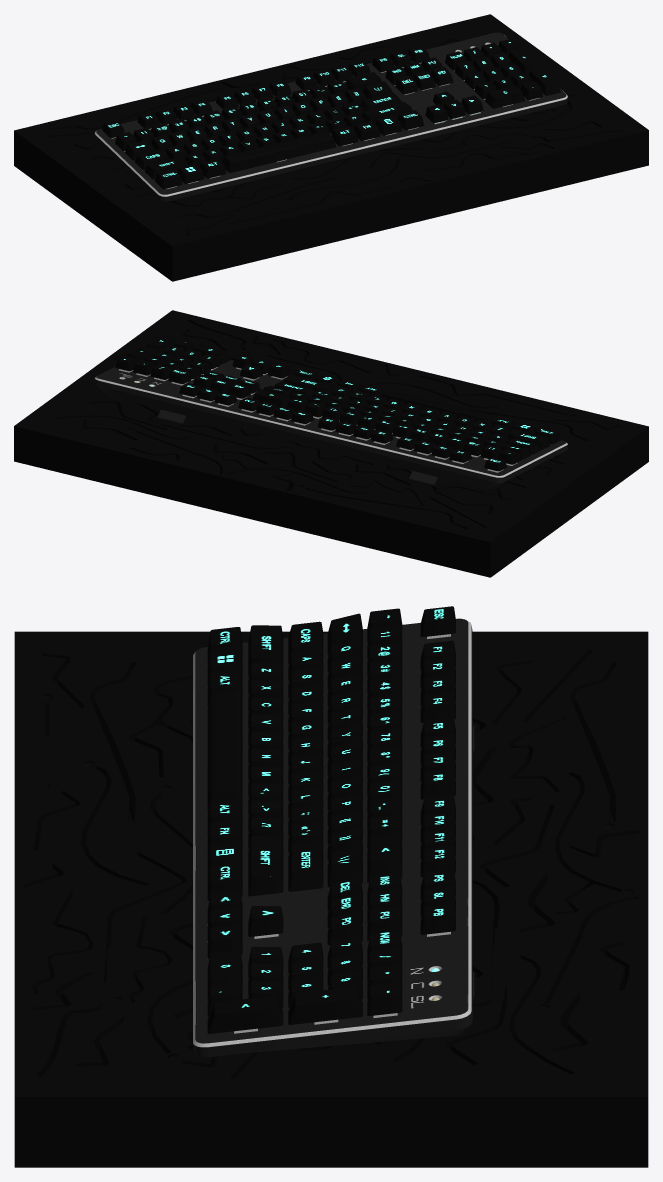
File: hero_model.glb
The picture shows the model from 3 angles, top to bottom: view 1: azimuth 30°, elevation 25°; view 2: azimuth 150°, elevation 25°; view 3: azimuth 270°, elevation 25°; orthographic projection. The views are drawn at different scales.
Visible parts, largest first — view 1: Cube.002, keys, keyboard; view 2: Cube.002, keys, keyboard, legs; view 3: Cube.002, keys, keyboard.
Boxes of the visible parts, x1,y1,x2,y2 form: Cube.002: (14,14,648,281); keys: (102,38,560,189); keyboard: (94,32,567,201); Cube.002: (14,310,648,577); keys: (115,335,560,471); keyboard: (94,360,567,488); legs: (157,409,437,485); Cube.002: (14,631,648,1167); keys: (207,606,455,1033); keyboard: (193,618,472,1057).
Bounding box in the file's own units: 4.19 × 0.5725 × 2.41.
3 materials, 2 textured.
